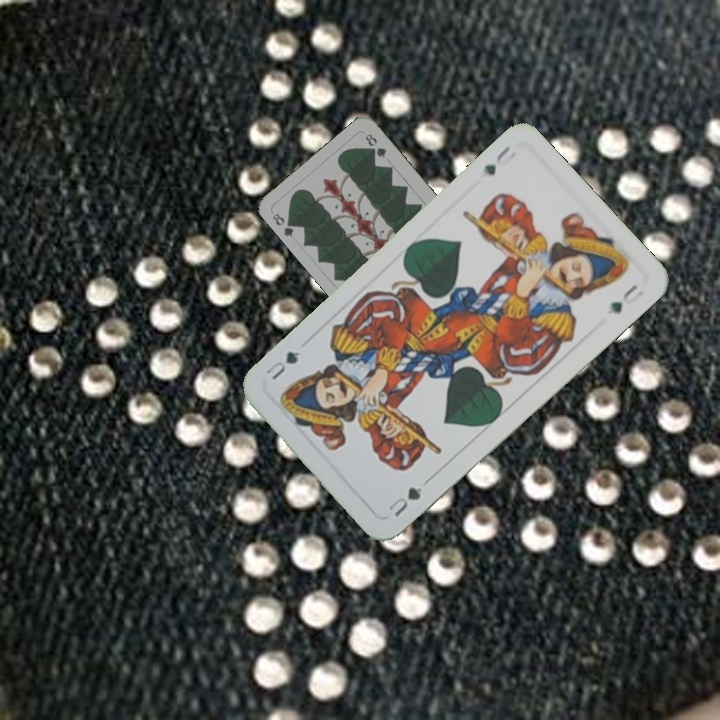G8: (268, 209, 299, 240)
GU: (384, 475, 432, 520), (478, 142, 519, 178)
